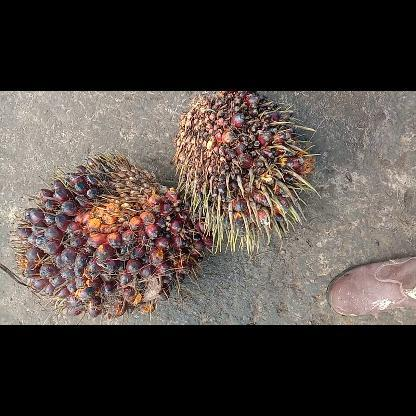Kurang masak: (11, 152, 212, 324)
TBS abnormal: (172, 91, 320, 255)
